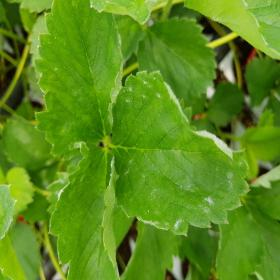Powdery Mildew Leaf: (110, 70, 251, 236), (33, 0, 124, 161), (48, 141, 120, 279), (184, 0, 279, 60)
